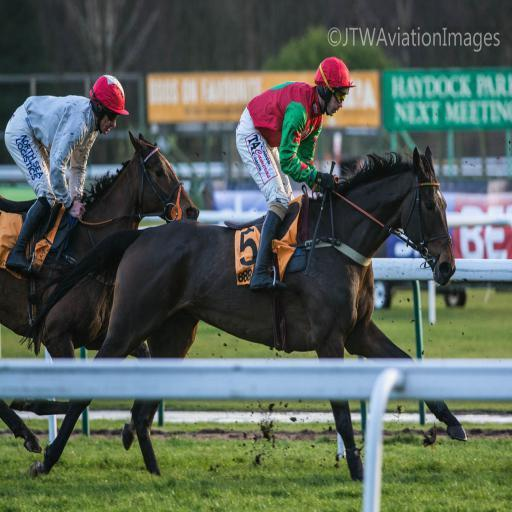horse: (31, 142, 469, 484), (0, 130, 201, 452)
